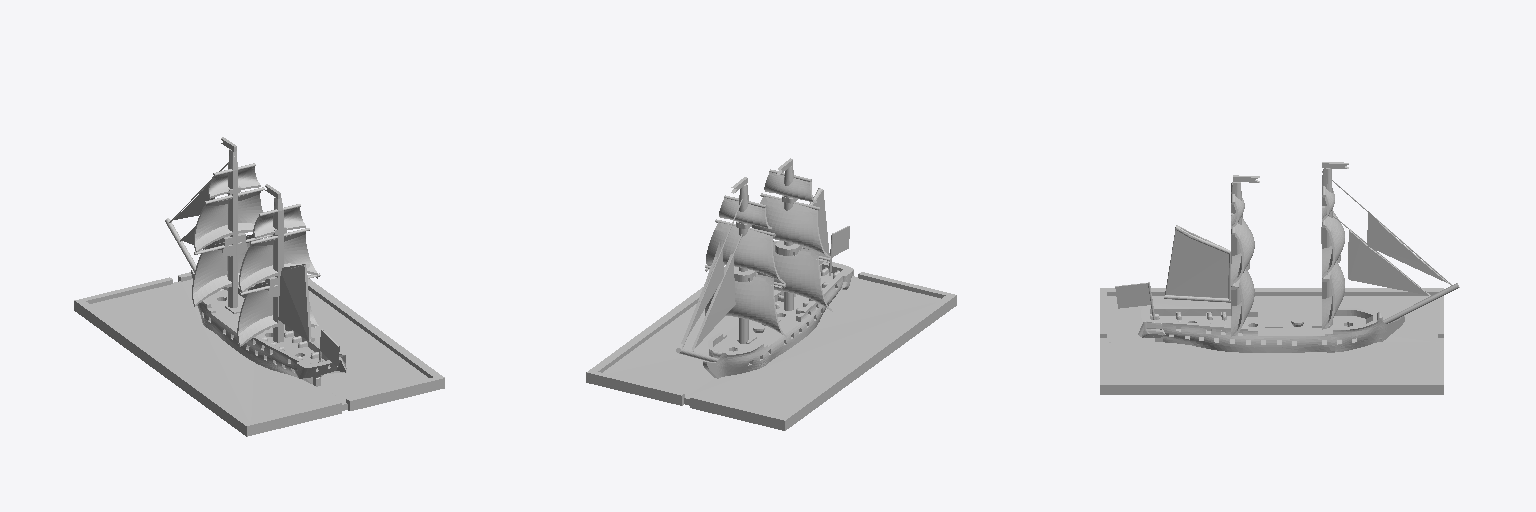
File: SOG_Brig2.obj
3 renders of one model, left to right at view 1: azimuth 30°, elevation 25°; view 2: azimuth 150°, elevation 25°; view 3: azimuth 270°, elevation 25°, orthographic.
Visible parts, largest first — view 1: SOG_Brig2.obj; view 2: SOG_Brig2.obj; view 3: SOG_Brig2.obj.
Boxes of the visible parts, box(x1,y1,x2,y2) form: SOG_Brig2.obj: box(74, 137, 444, 436); SOG_Brig2.obj: box(586, 158, 956, 430); SOG_Brig2.obj: box(1100, 162, 1459, 394).
Size of the model in its own units: 4.3 by 3.89 by 6.74.